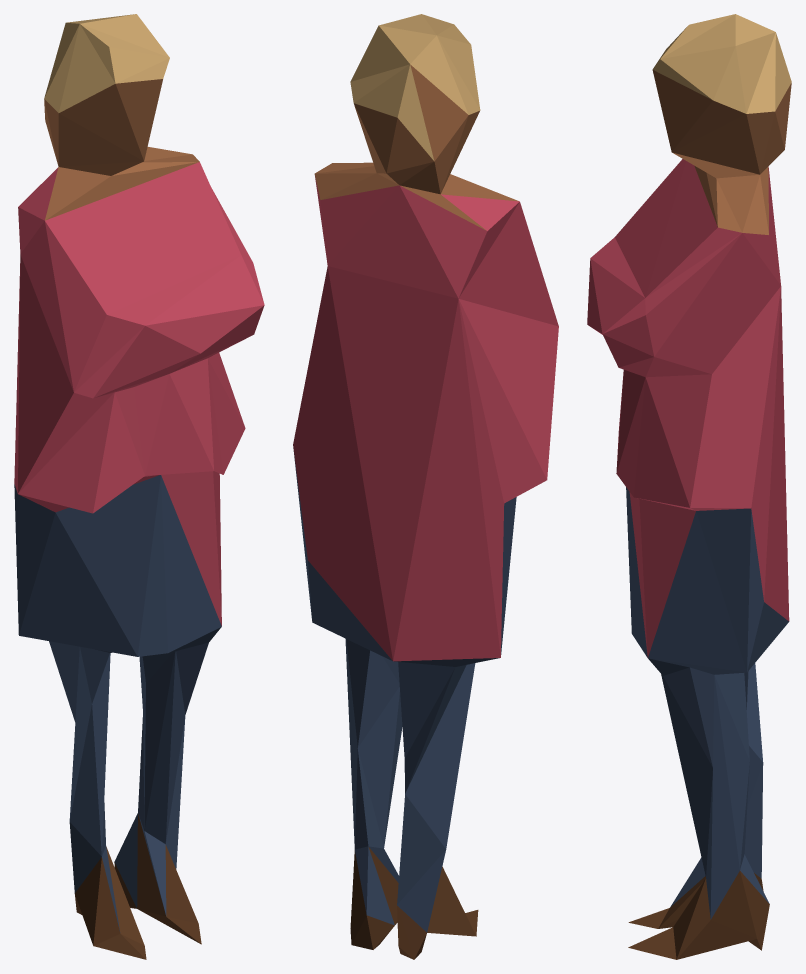
Rendered from walker-14.glb.
The picture shows the model from 3 angles, left to right: view 1: azimuth 30°, elevation 25°; view 2: azimuth 150°, elevation 25°; view 3: azimuth 270°, elevation 25°; orthographic projection.
Parts seen in each view (by area): view 1: Woman09; view 2: Woman09; view 3: Woman09.
Part boxes in pixels (box(x1,y1,x2,y2)): Woman09: box(14, 14, 264, 959); Woman09: box(293, 14, 558, 959); Woman09: box(587, 14, 791, 959).
Size of the model in its own units: 0.4109 by 1.55 by 0.3184.
